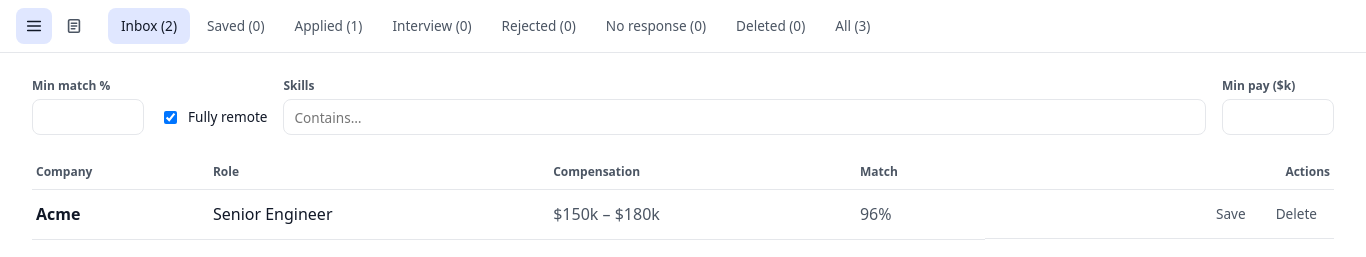
Test: filters applied jobs and flags stale applications
The width and height of the screenshot is (1366, 257).
Check: the button "Acme" is shown, box [36,198,201,230]
Click the tab "Applied (1)": coordinates (328, 26) [282,8,375,44]
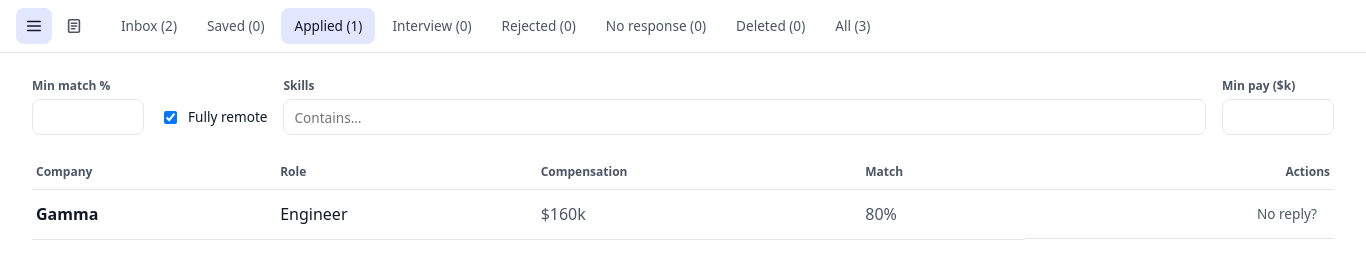
Check: the button "Gamma" is shown, box [36,198,268,230]
Check: the button "Acme" is gone
Check: the button "No reply?" is shown, box [1244,196,1330,232]
